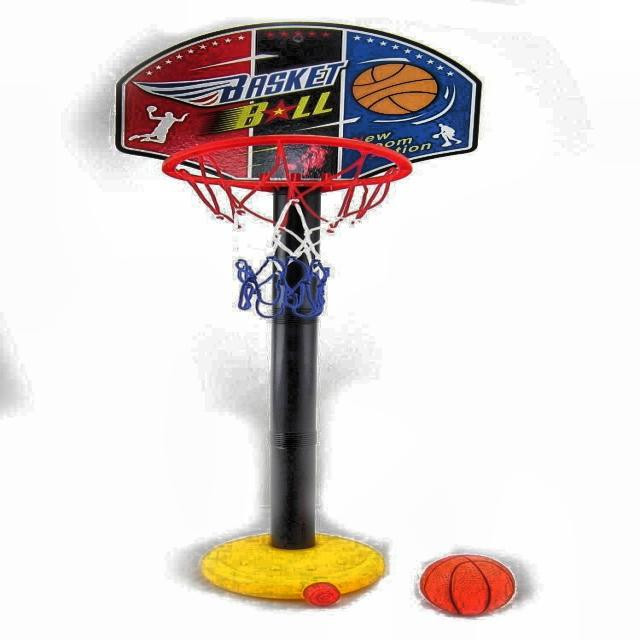rim: (168, 136, 412, 317)
